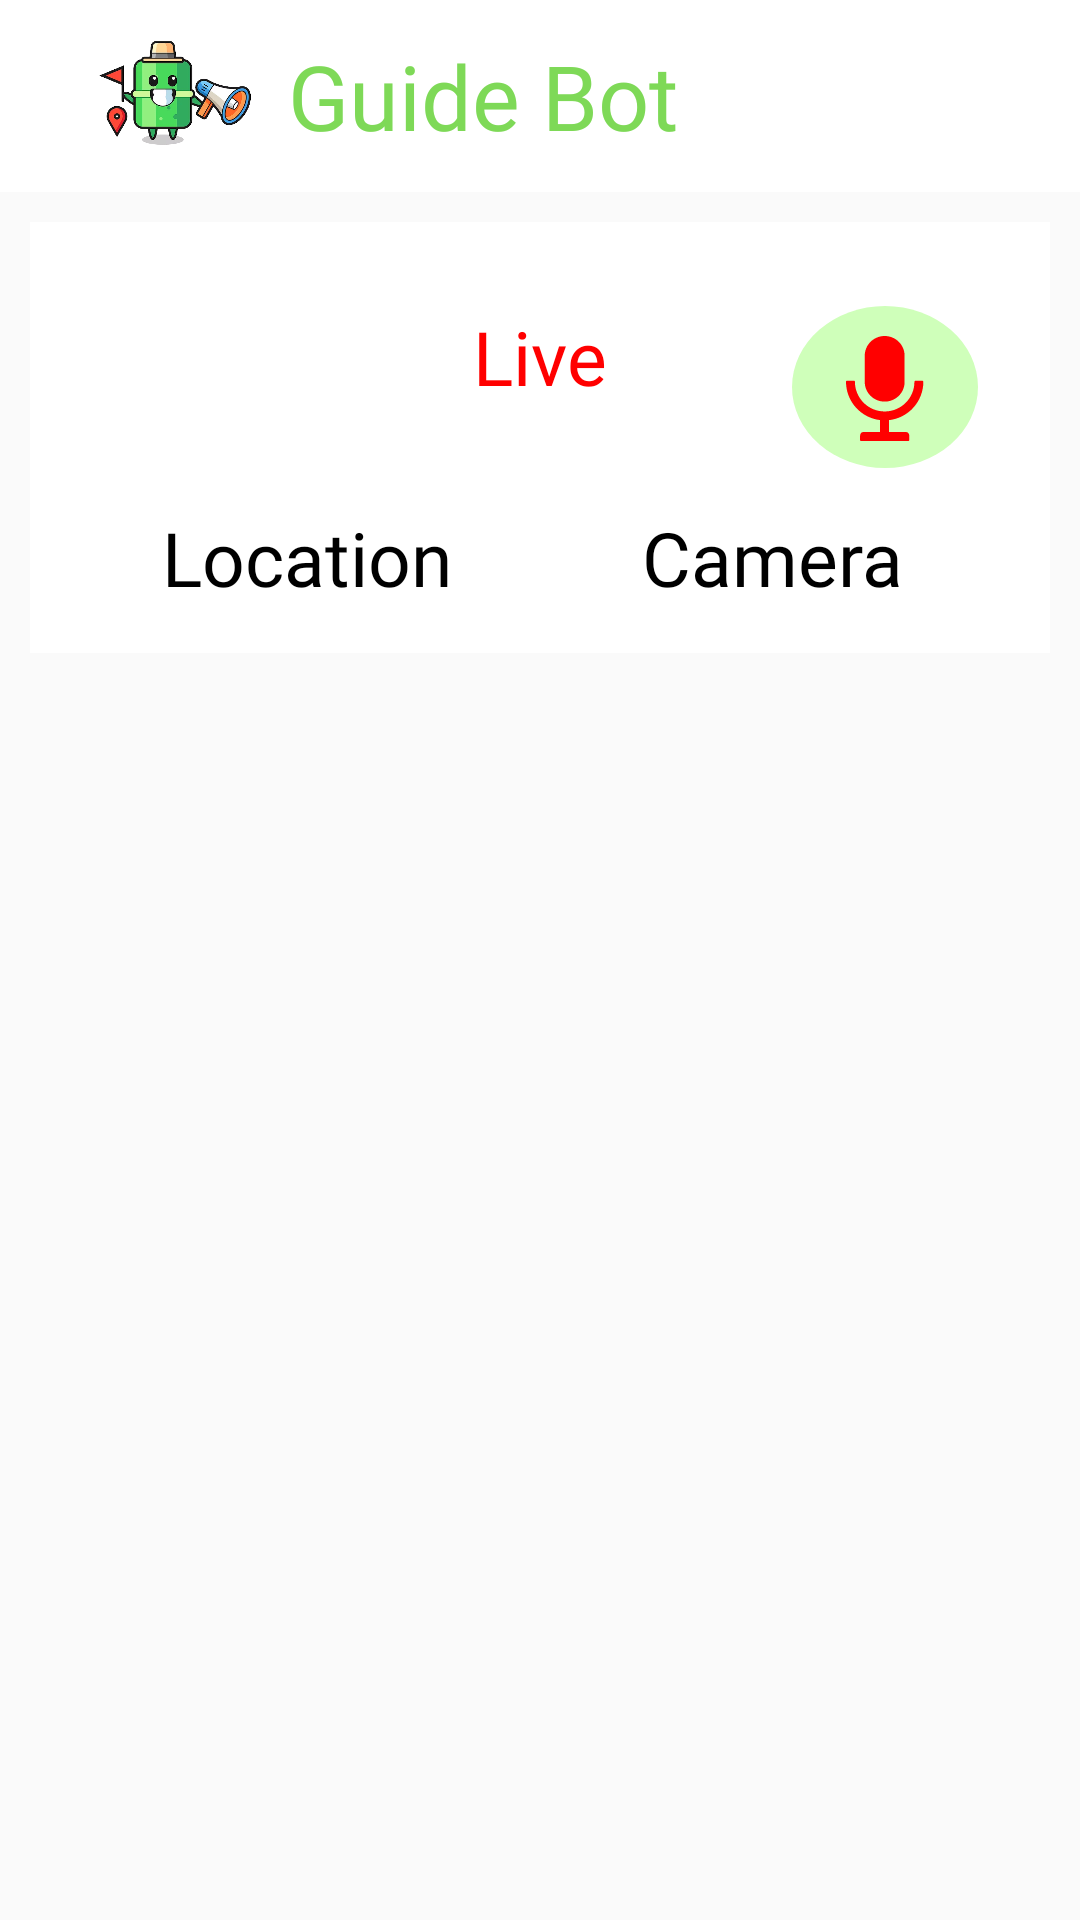

Point at icon controls on the screen. Image size 1080w x 1920h, points as point (x, y).
audio: point (885, 387)
